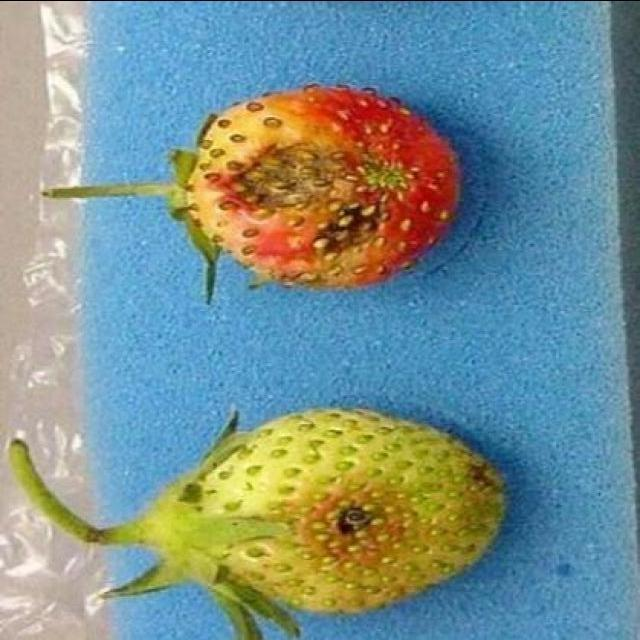Anthracnose Fruit Rot: (8, 405, 512, 640), (160, 84, 465, 291)
